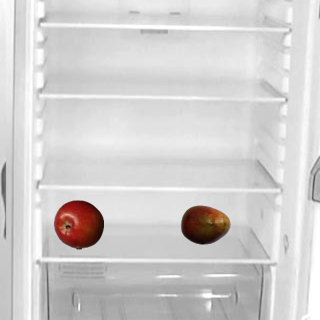Apple Braeburn: (53, 199, 103, 249)
Mango Red: (180, 199, 230, 249)
